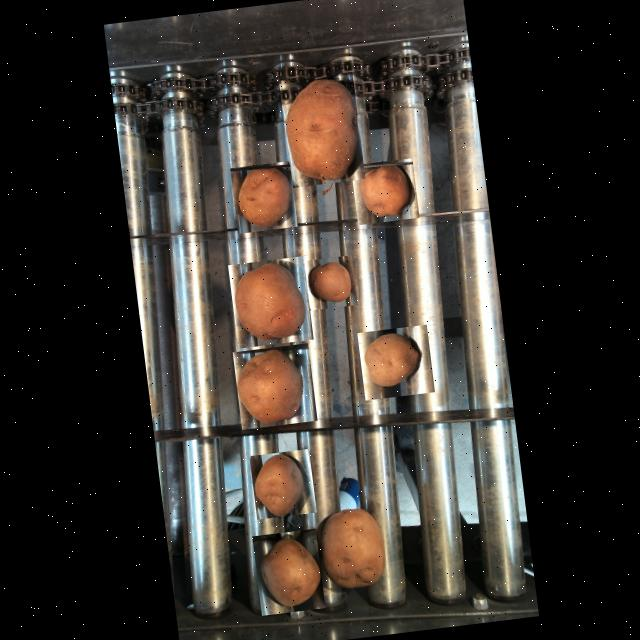Potato: (278, 72, 364, 188), (308, 498, 392, 596), (226, 255, 312, 348), (231, 342, 316, 430), (251, 528, 324, 616), (356, 324, 434, 400), (228, 160, 296, 233), (248, 448, 315, 520), (349, 158, 418, 225), (303, 255, 357, 310)
